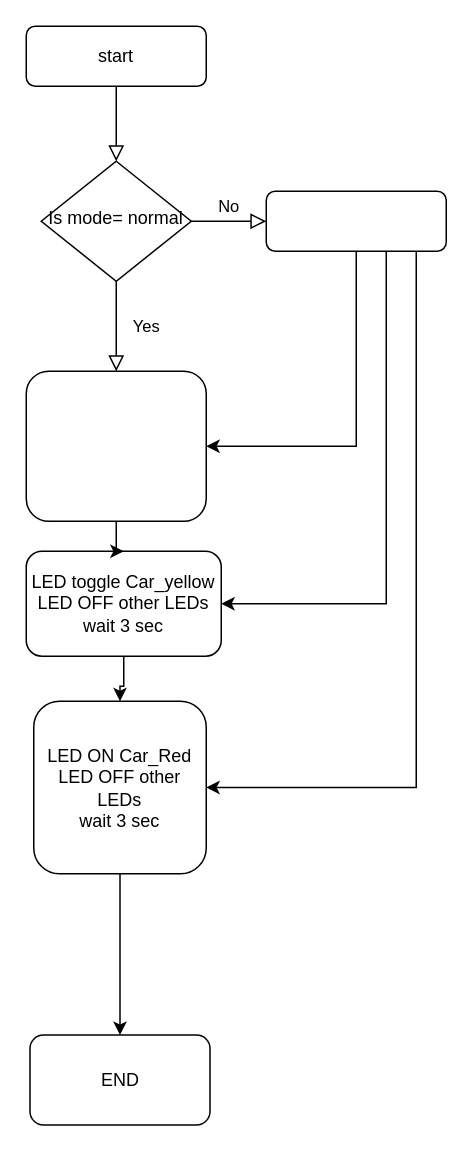
This 473x1152 diagram has some shape labels left out. Each missing label, with the box of its shape:
ISR: (265, 190, 446, 251)
LED ON Car_Green LED OFF other LEDs wait 3 sec: (25, 370, 206, 521)
